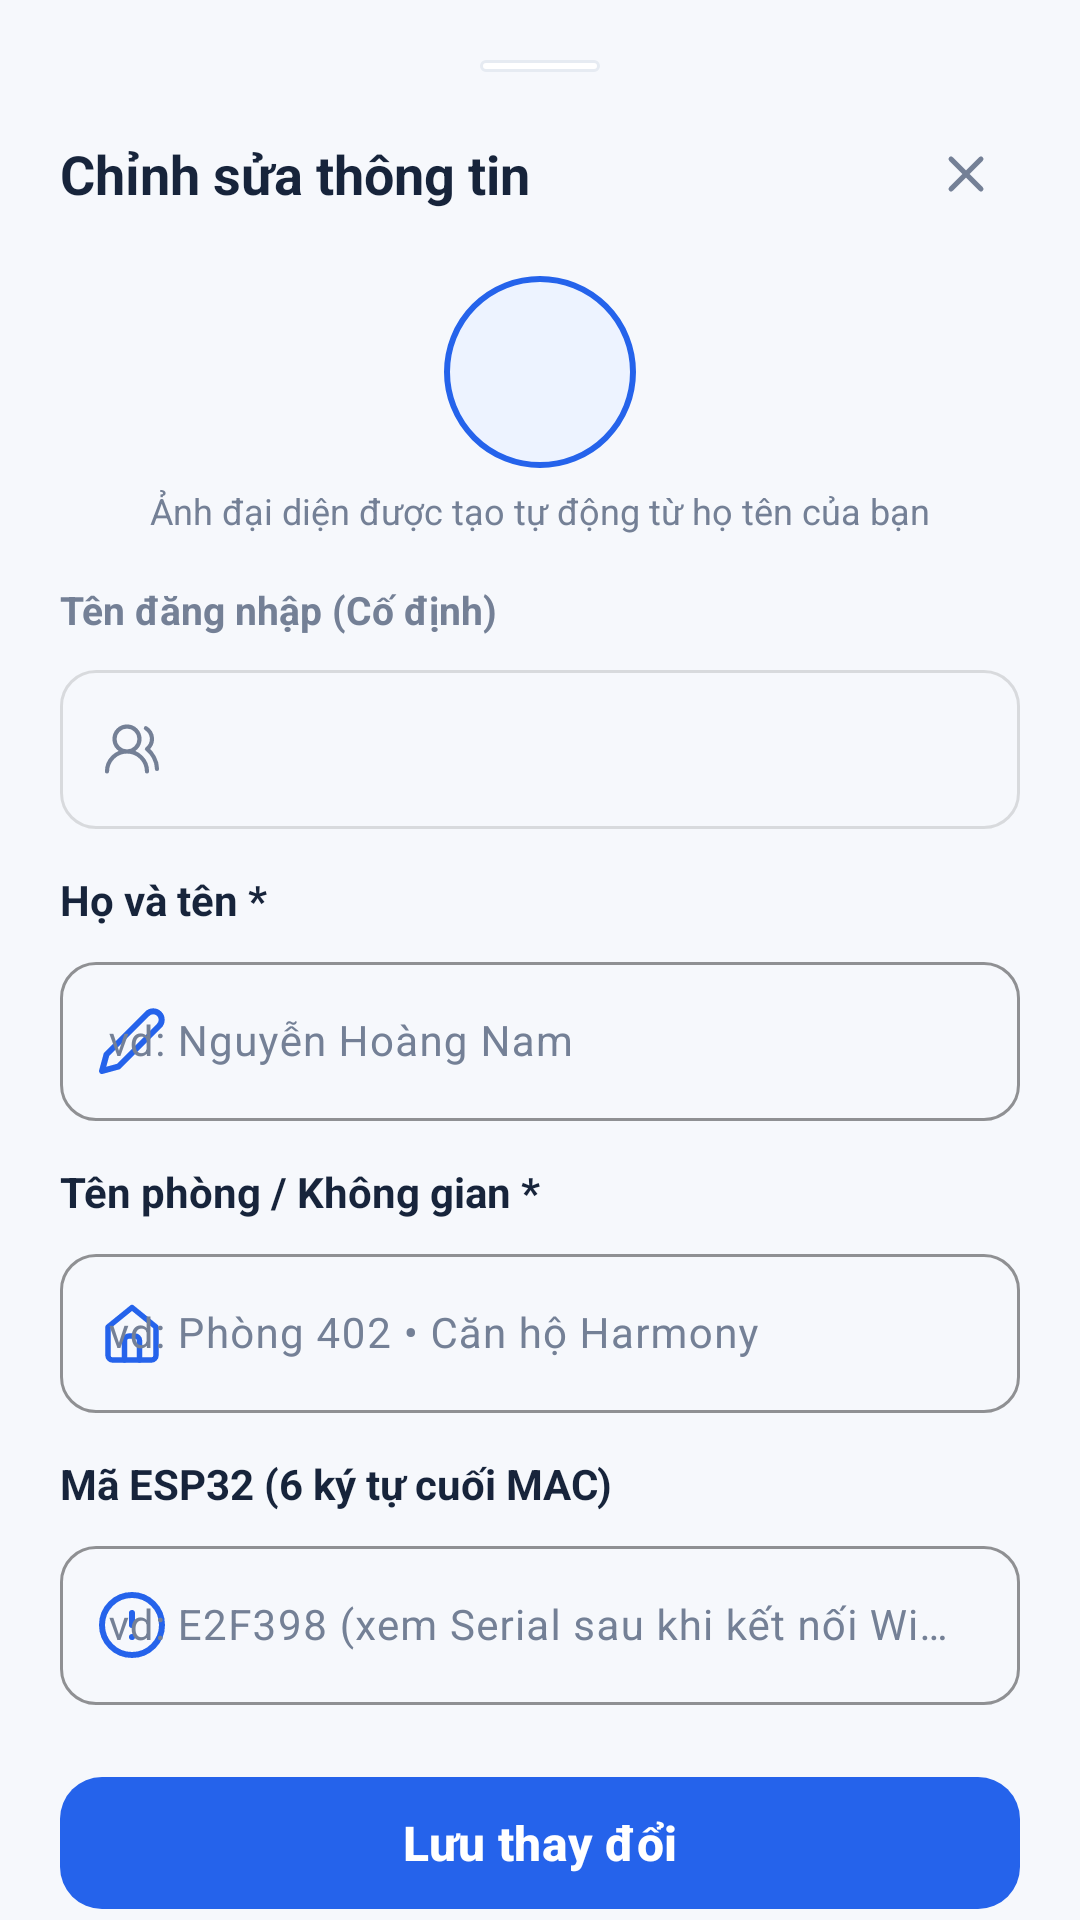

Icons on this 1080*1920 Android screen, each with the point to tap as point (x, y):
Đóng: point (966, 174)
